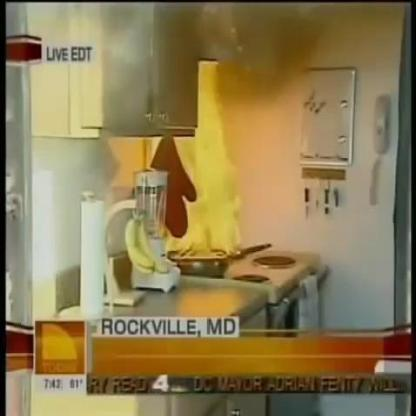fire: (150, 60, 244, 260)
